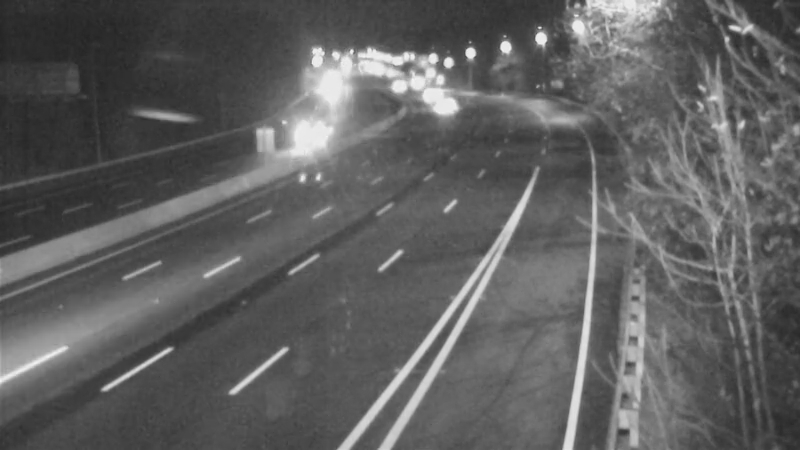vehicle: (388, 60, 438, 110), (369, 58, 419, 108), (406, 67, 456, 117), (423, 81, 473, 131), (275, 116, 325, 166)
